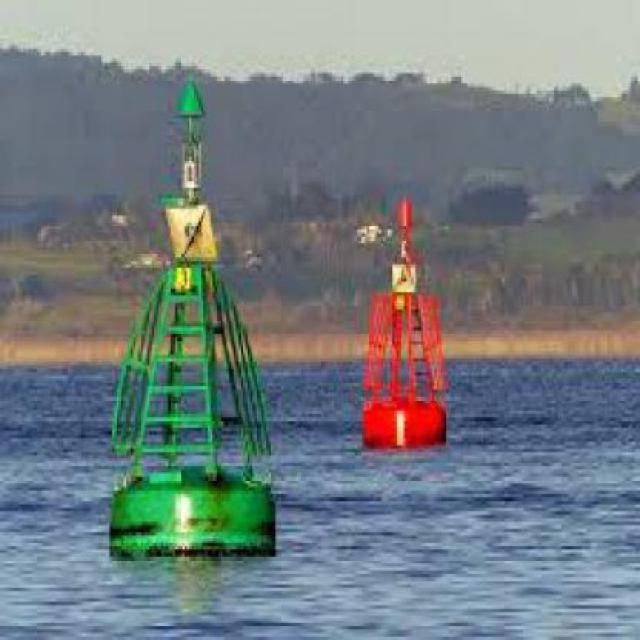buoy: (96, 70, 289, 569), (349, 189, 464, 467)
